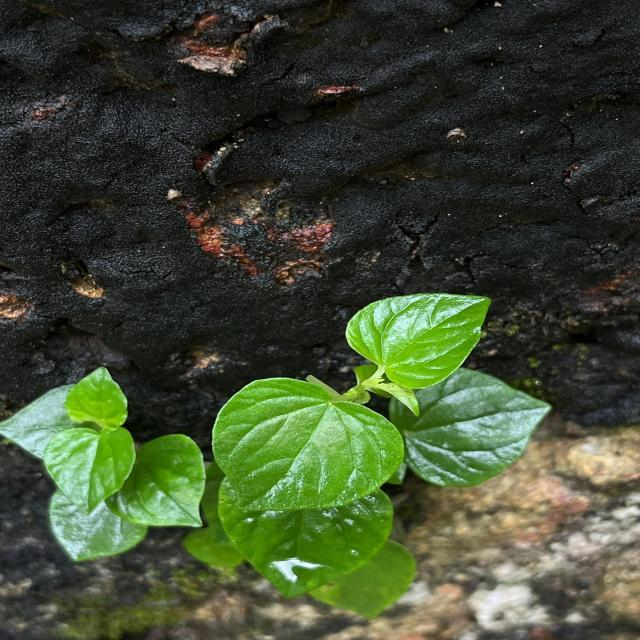Peperomia pellucida: (209, 376, 407, 513), (342, 292, 492, 391)
